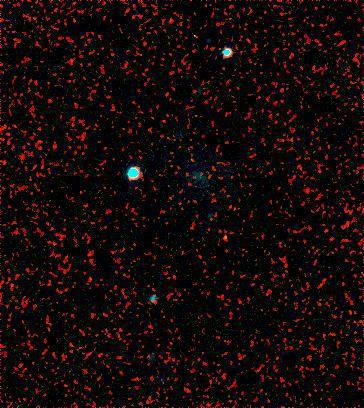star: (212, 220, 242, 250)
